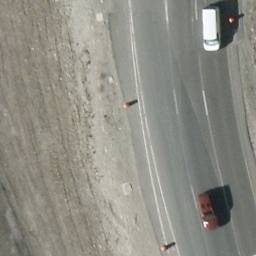car: (198, 191, 225, 232)
van: (202, 8, 222, 51)
